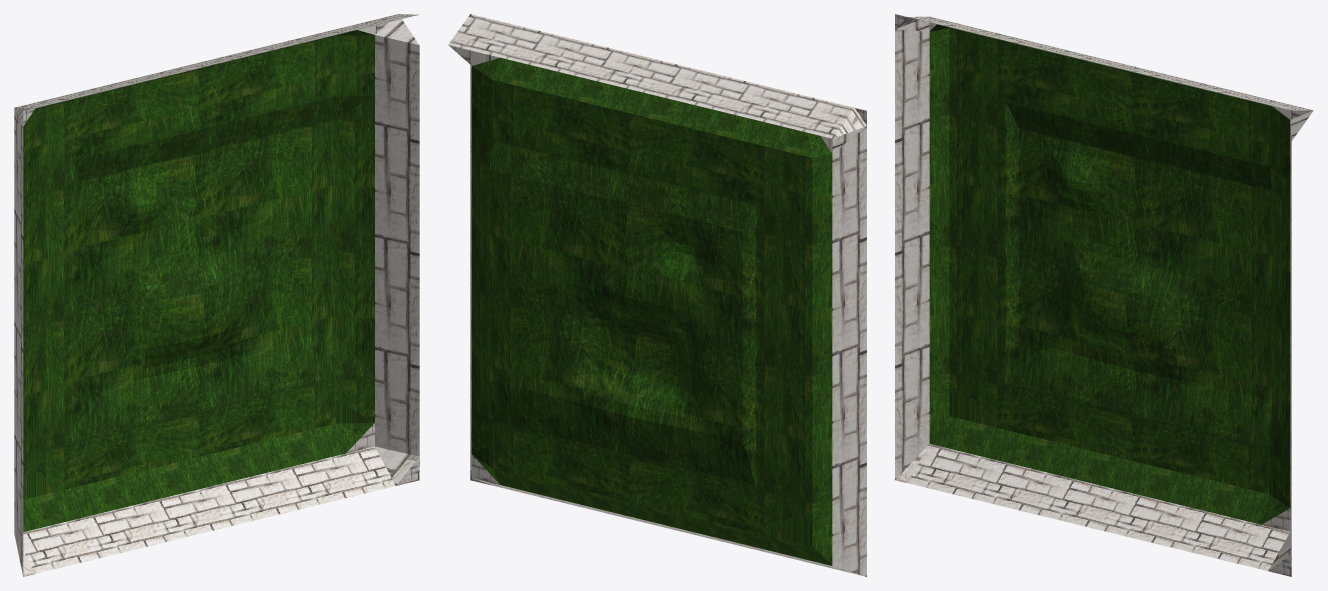
File: rpggrass_wtf.obj
3 renders of one model, left to right at view 1: azimuth 30°, elevation 25°; view 2: azimuth 150°, elevation 25°; view 3: azimuth 330°, elevation 25°, orthographic.
Parts seen in each view (by area): view 1: group2, group3; view 2: group2, group3; view 3: group2, group3.
Part boxes in pixels (x1,y1,x2,y2): group2: [23, 30, 374, 531]; group3: [14, 14, 419, 576]; group2: [471, 57, 832, 565]; group3: [448, 14, 866, 576]; group2: [929, 24, 1290, 524]; group3: [895, 14, 1313, 576].
Bounding box in the file's own units: 589 × 660 × 87.3.
